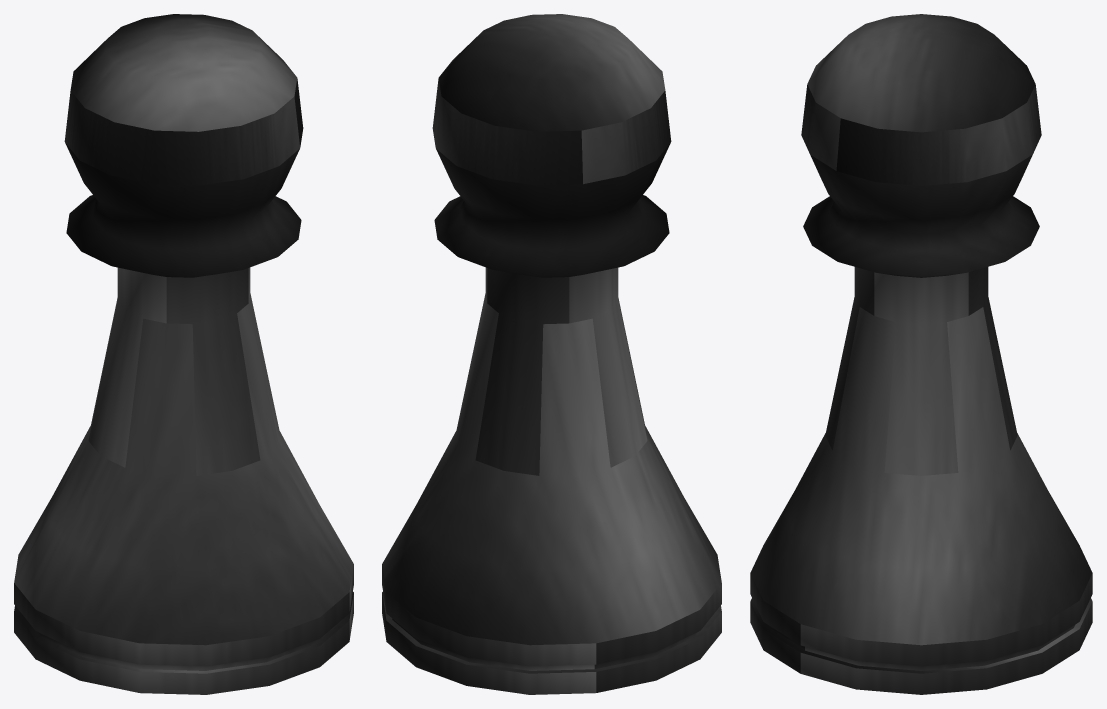
Rendered from pawn.glb.
3 renders of one model, left to right at view 1: azimuth 30°, elevation 25°; view 2: azimuth 150°, elevation 25°; view 3: azimuth 270°, elevation 25°, orthographic.
Visible parts, largest first — view 1: Cylinder.005; view 2: Cylinder.005; view 3: Cylinder.005.
Boxes of the visible parts, x1,y1,x2,y2 form: Cylinder.005: [14, 14, 353, 694]; Cylinder.005: [382, 14, 721, 694]; Cylinder.005: [750, 14, 1092, 694].
Size of the model in its own units: 5.35 by 10.21 by 5.35.
Materials: 1 (1 with a texture image).
